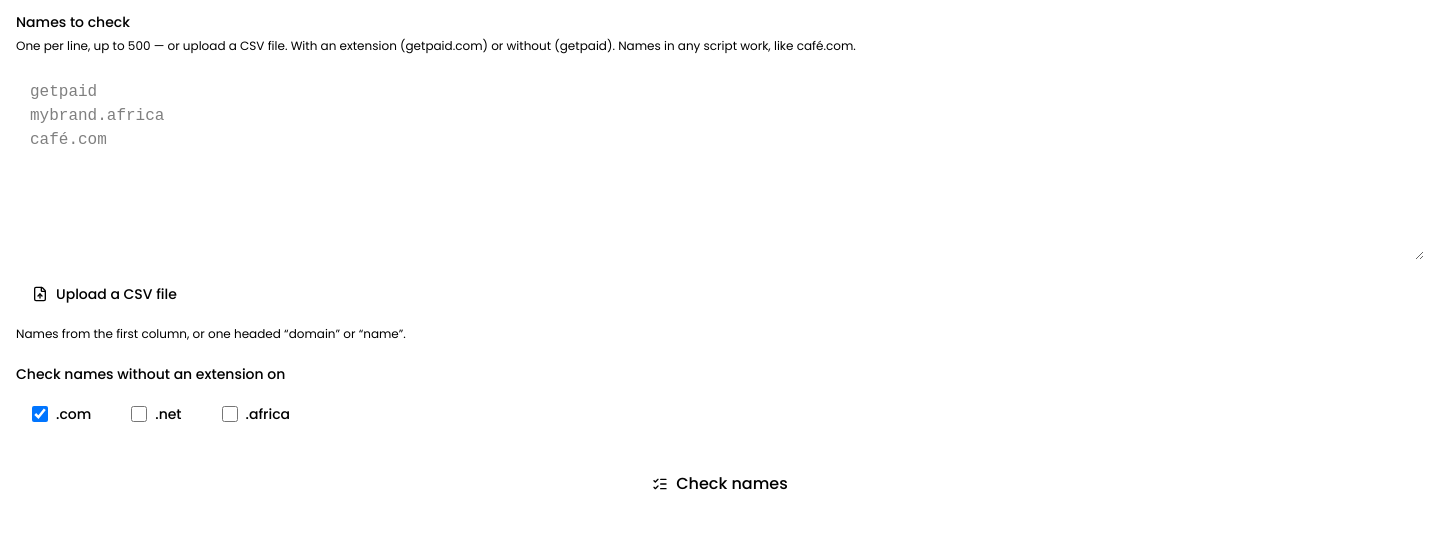
BulkSearchForm — refusals first (FR-S5) › clears a stale error as soon as the list changes
The image size is (1440, 556).
Step 1. Click the button "Check names" → (720, 484), box [16, 460, 1424, 508]
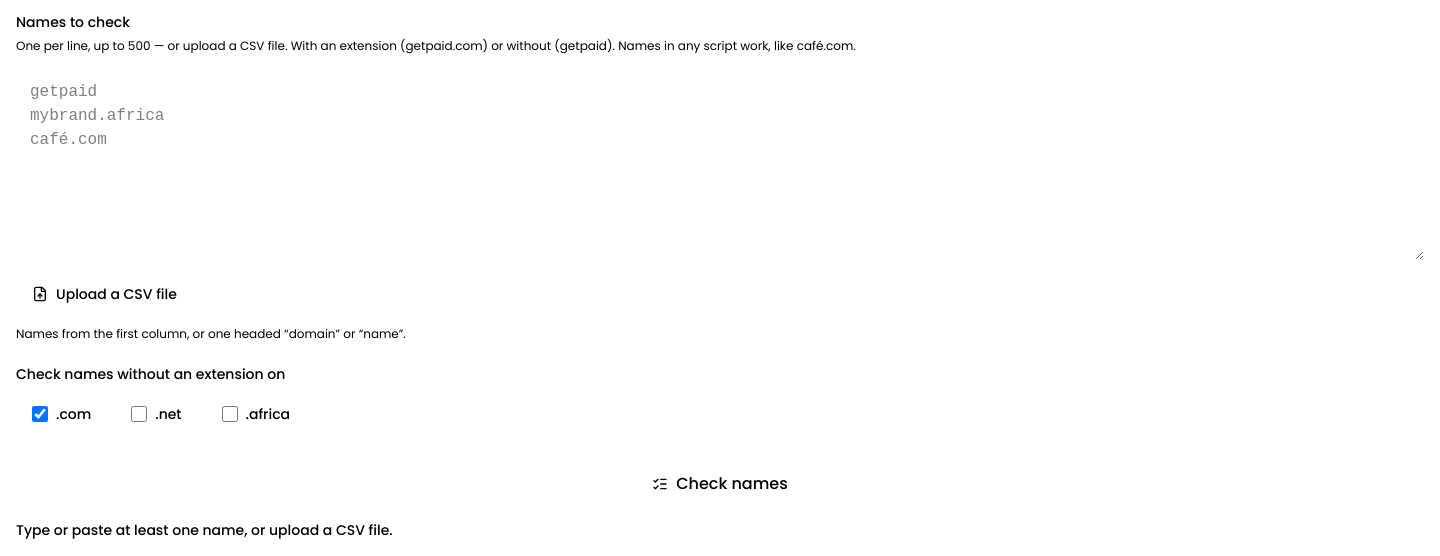
Step 2. Type "g" into the text box labelled "Names to check" → (720, 164), box [16, 68, 1424, 260]
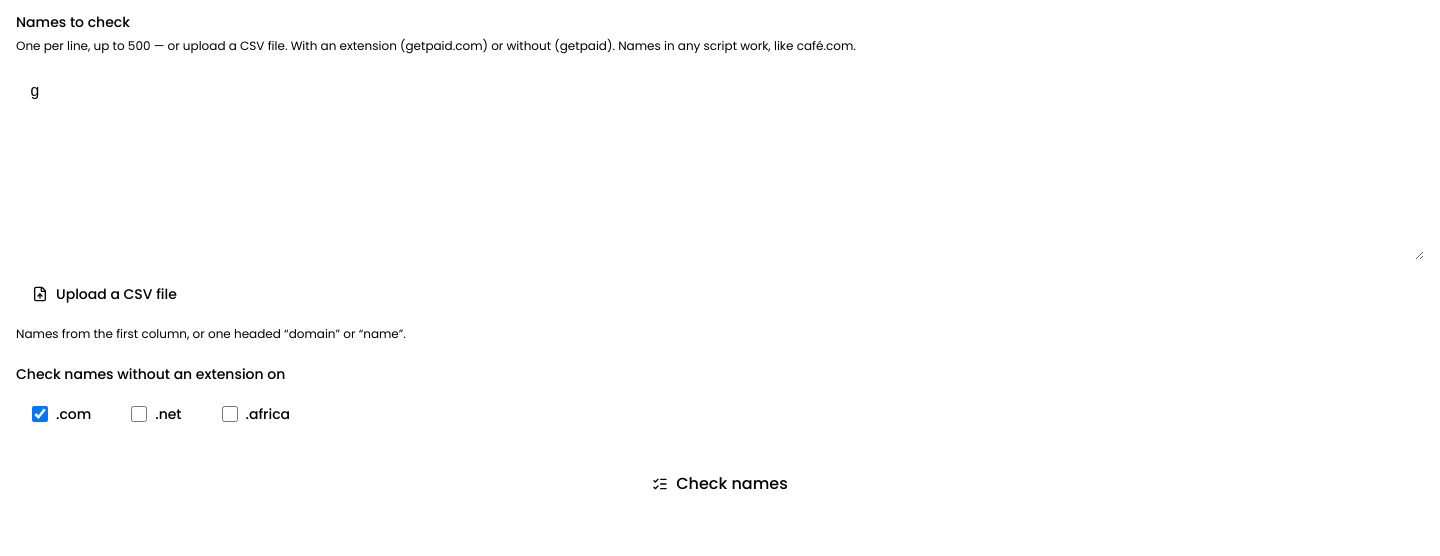
Now the message "Type or paste at least one name, or upload a CSV file." is gone
